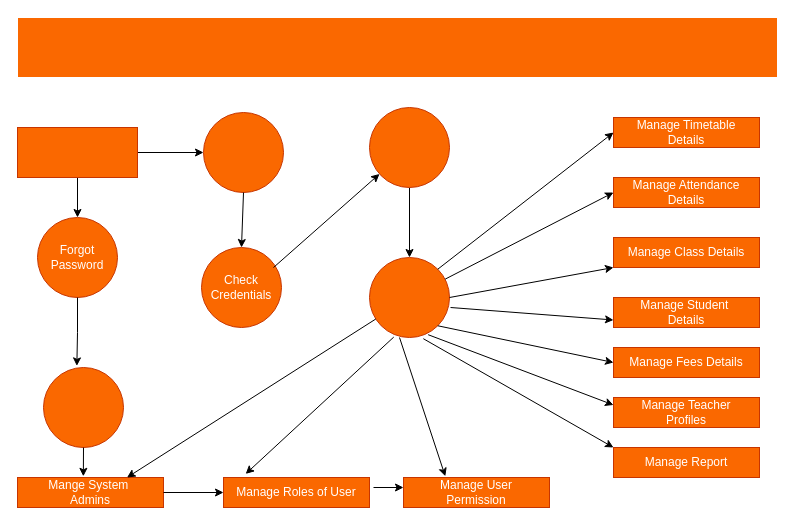
Image size: 795x525. Some labels were removed from this diagram. The box of each missing label's shape, as (x1, y1, x2, y2) in pixels:
Admin: (16, 126, 138, 178)
Check Roles of Access: (368, 106, 450, 188)
Login to System: (202, 112, 284, 192)
Manage Modules: (368, 256, 450, 338)
Send Email to User: (42, 366, 124, 448)
Student Information System: (16, 16, 778, 78)
